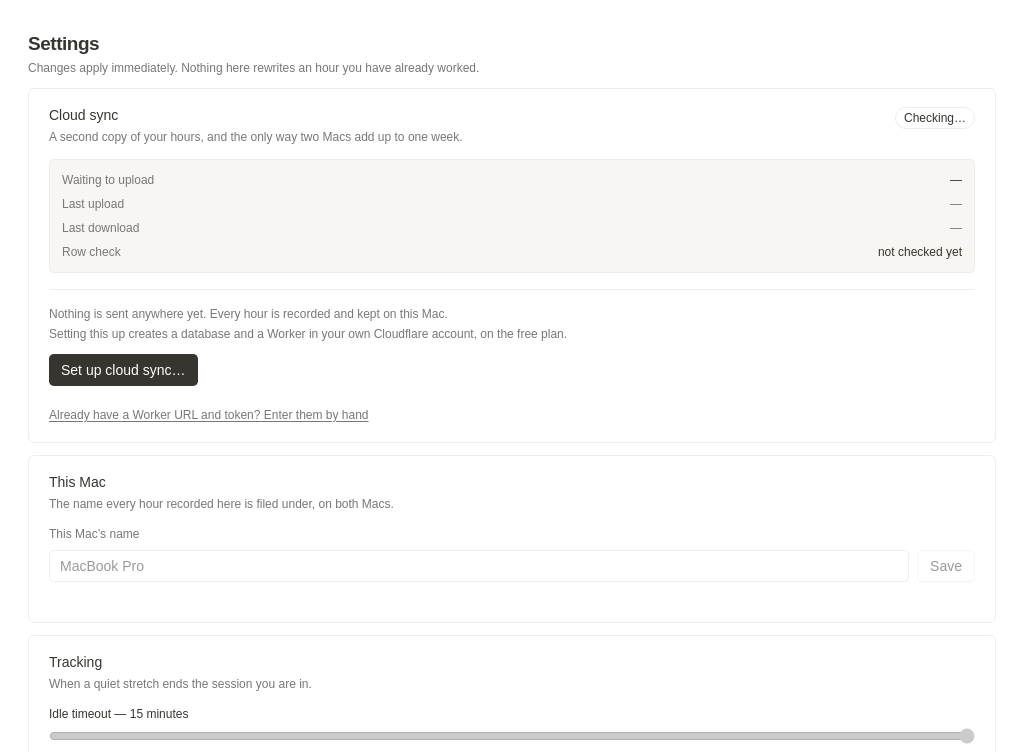
one primary path, and the expert fields behind a disclosure › opens the fields on request, and keeps them open
Expected: the heading "Cloud sync" is shown, [49,107,118,123]
Click the button "Already have a Worker URL and token? Enter them by hand".
click(209, 415)  # box [49,407,368,423]
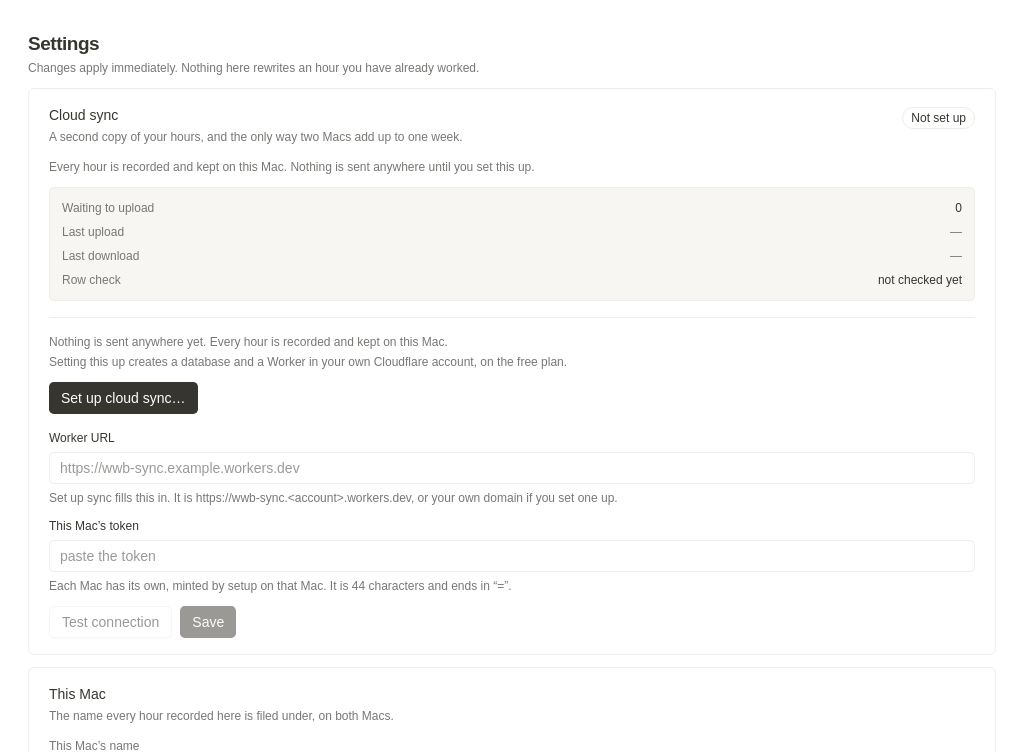
Now the element that starts with "Worker URL" is shown, box [49,430,975,638]
Now the button "Enter them by hand" is gone
